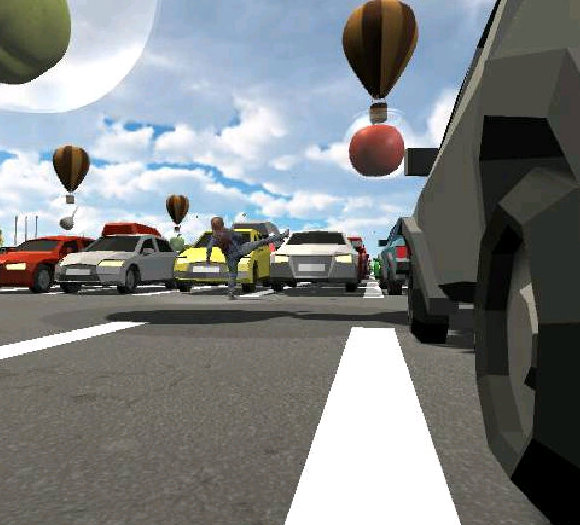turn_right: (202, 215, 289, 300)
